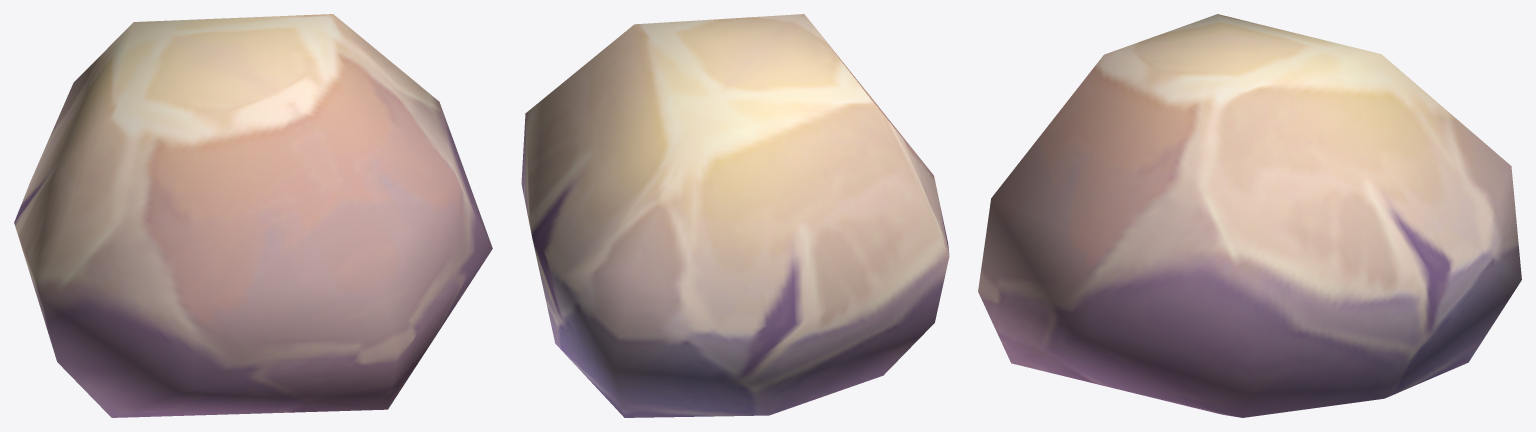
File: scenes_common_rock01.FBX
The picture shows the model from 3 angles, left to right: view 1: azimuth 30°, elevation 25°; view 2: azimuth 150°, elevation 25°; view 3: azimuth 270°, elevation 25°; orthographic projection. The views are drawn at different scales.
Visible parts, largest first — view 1: scenes_common_rock01; view 2: scenes_common_rock01; view 3: scenes_common_rock01.
Boxes of the visible parts, left/top/right/bottom form: scenes_common_rock01: left=14, top=14, right=492, bottom=417; scenes_common_rock01: left=521, top=14, right=949, bottom=417; scenes_common_rock01: left=978, top=14, right=1521, bottom=417.
Bounding box in the file's own units: 20.13 × 15.7 × 21.78.
